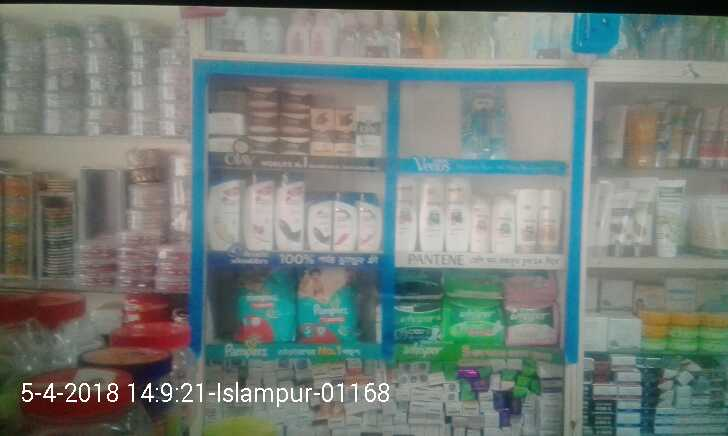venus: (460, 87, 509, 159)
